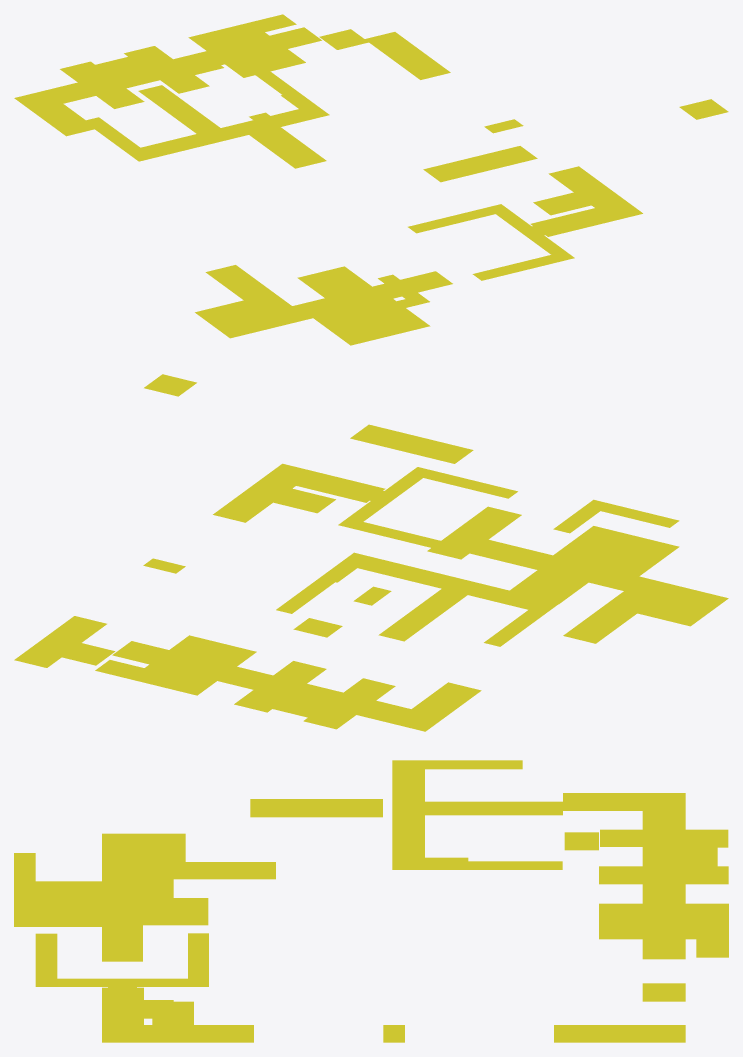
Rendered from 0920_player_route.fbx.
3 renders of one model, top to bottom at view 1: azimuth 30°, elevation 25°; view 2: azimuth 150°, elevation 25°; view 3: azimuth 270°, elevation 25°, orthographic. The views are drawn at different scales.
Parts seen in each view (by area): view 1: PLAYER_route; view 2: PLAYER_route; view 3: PLAYER_route.
Boxes of the visible parts, bbox=[...] form: PLAYER_route: bbox=[14, 14, 728, 345]; PLAYER_route: bbox=[14, 374, 728, 731]; PLAYER_route: bbox=[14, 760, 728, 1042].
Bounding box in the file's own units: 9565 × 1646 × 9864.
